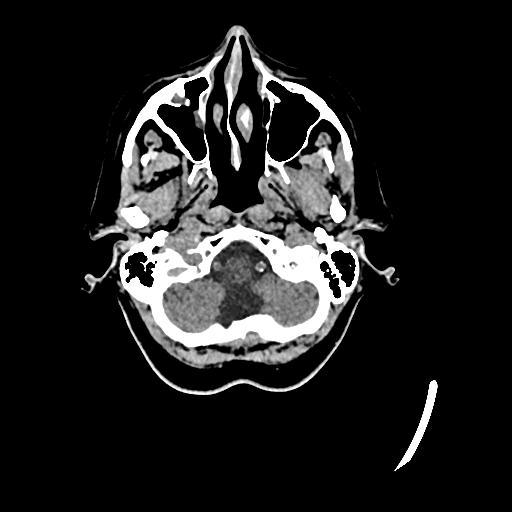Normal_Brain: (86, 30, 401, 412)
